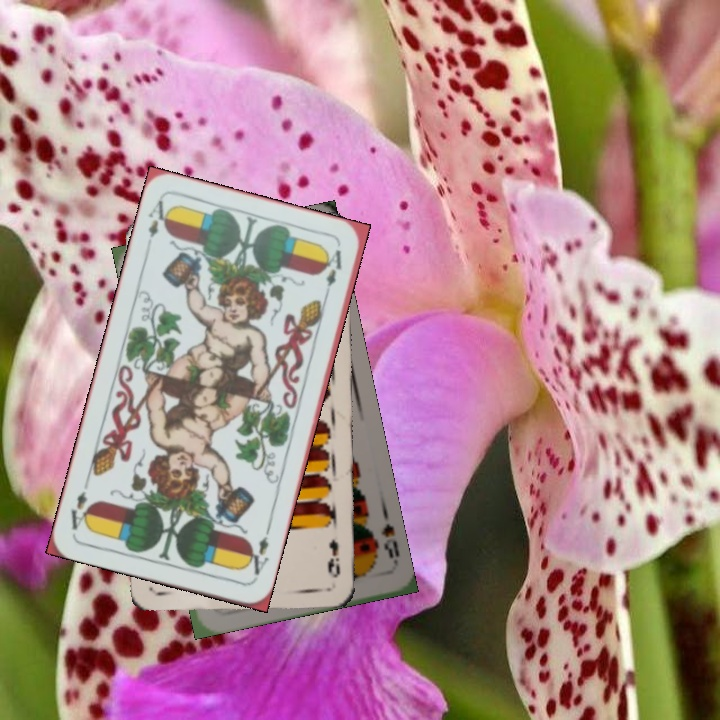E9: (324, 534, 343, 580)
EA: (241, 524, 273, 582), (144, 196, 174, 240)
S8: (377, 519, 402, 570)
